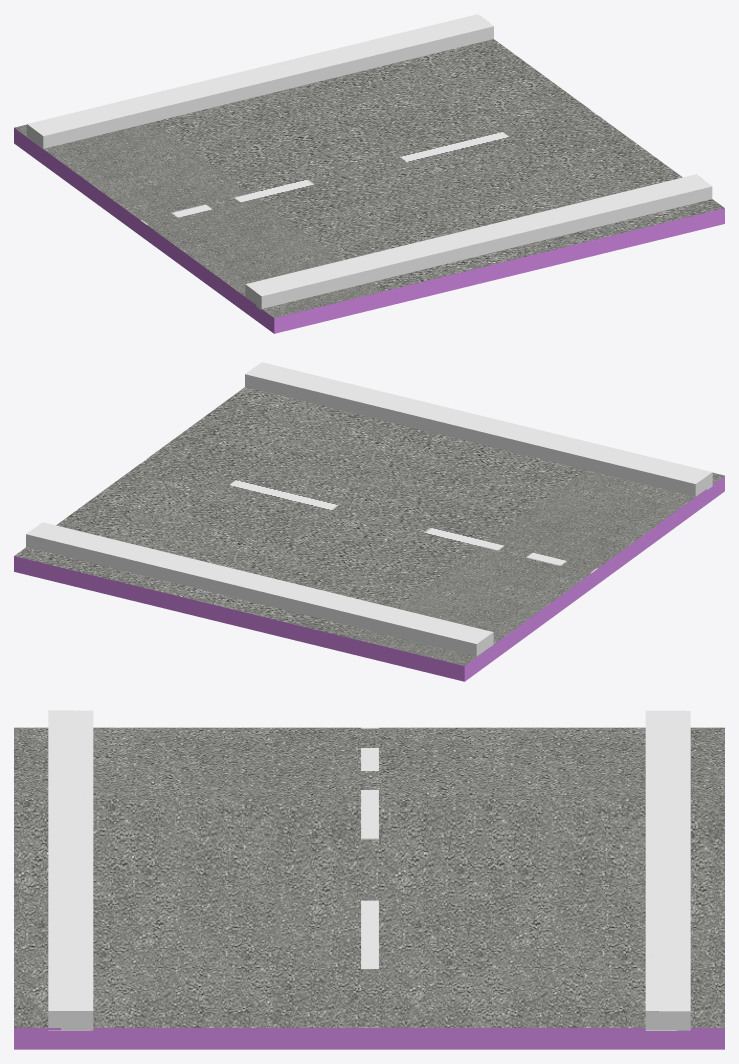
File: Road2.fbx
The picture shows the model from 3 angles, top to bottom: view 1: azimuth 30°, elevation 25°; view 2: azimuth 150°, elevation 25°; view 3: azimuth 270°, elevation 25°; orthographic projection. The views are drawn at different scales.
Visible parts, largest first — view 1: Road4, Road2, Road3, Road, Line013, Line_ncl1_3, Line_ncl1_1, Line_ncl1_2, Line006, Line007, Line, Line003 (+14 smaller); view 2: Road4, Road2, Road3, Road, Line013, Line_ncl1_3, Line, Line_ncl1_5, Line_ncl1_1, Line_ncl1_4, Line011, Line012 (+14 smaller); view 3: Road, Road2, Road3, Road4, Line003, Line_ncl1_7, Line_ncl1_2, Line_ncl1_5, Line_ncl1_6, Line004, Line005, Line008 (+14 smaller).
Part boxes in pixels (x1=…): Road4: x1=14, y1=122, x2=384, y2=333; Road2: x1=269, y1=65, x2=617, y2=278; Road3: x1=154, y1=94, x2=499, y2=306; Road: x1=387, y1=39, x2=724, y2=249; Line013: x1=245, y1=274, x2=302, y2=310; Line_ncl1_3: x1=27, y1=114, x2=84, y2=148; Line_ncl1_1: x1=191, y1=74, x2=248, y2=108; Line_ncl1_2: x1=232, y1=64, x2=289, y2=98; Line006: x1=573, y1=194, x2=630, y2=228; Line007: x1=532, y1=204, x2=589, y2=238; Line: x1=150, y1=84, x2=207, y2=118; Line003: x1=655, y1=174, x2=712, y2=208; Road4: x1=354, y1=470, x2=724, y2=681; Road2: x1=121, y1=413, x2=469, y2=626; Road3: x1=239, y1=442, x2=584, y2=654; Road: x1=14, y1=387, x2=351, y2=597; Line013: x1=654, y1=462, x2=712, y2=496; Line_ncl1_3: x1=435, y1=622, x2=493, y2=656; Line: x1=312, y1=592, x2=370, y2=626; Line_ncl1_5: x1=353, y1=602, x2=411, y2=636; Line_ncl1_1: x1=271, y1=582, x2=329, y2=616; Line_ncl1_4: x1=394, y1=612, x2=452, y2=646; Line011: x1=449, y1=412, x2=507, y2=446; Line012: x1=613, y1=452, x2=671, y2=486; Road: x1=14, y1=956, x2=724, y2=1049; Road2: x1=14, y1=878, x2=724, y2=956; Road3: x1=14, y1=801, x2=724, y2=877; Road4: x1=14, y1=727, x2=724, y2=801; Line003: x1=48, y1=983, x2=93, y2=1030; Line_ncl1_7: x1=645, y1=983, x2=690, y2=1030; Line_ncl1_2: x1=645, y1=847, x2=690, y2=874; Line_ncl1_5: x1=645, y1=765, x2=690, y2=792; Line_ncl1_6: x1=645, y1=956, x2=690, y2=983; Line004: x1=48, y1=956, x2=93, y2=983; Line005: x1=48, y1=874, x2=93, y2=901; Line008: x1=48, y1=765, x2=93, y2=792.
Size of the model in its own units: 601 by 36.05 by 600.
